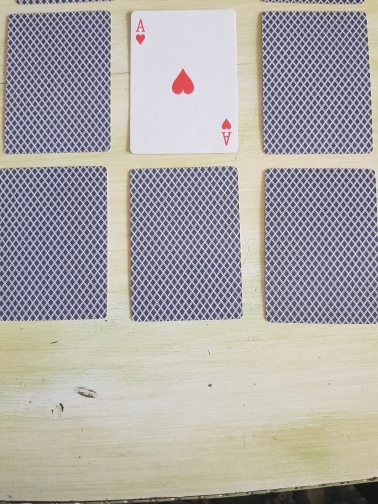ace: (129, 10, 239, 155)
